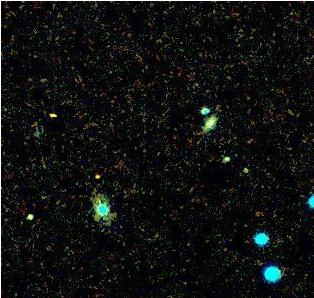star: (82, 158, 112, 188)
